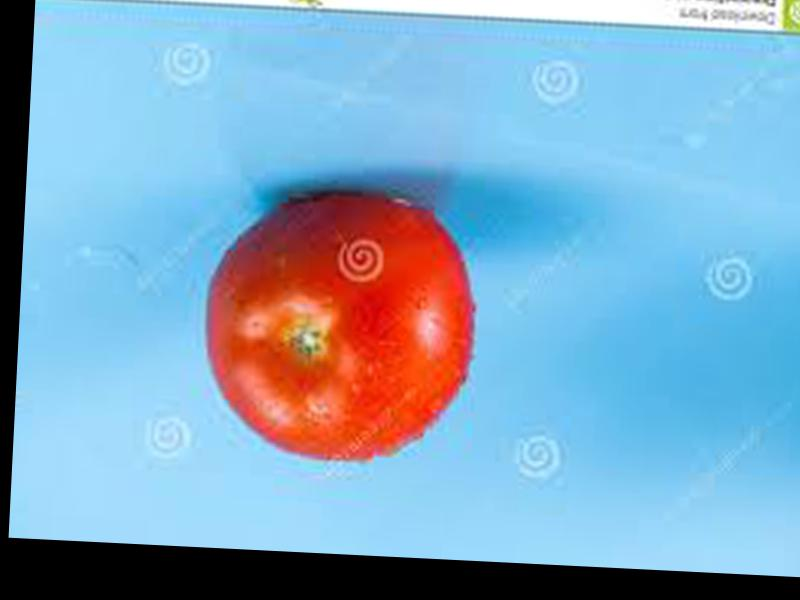Tomato: (195, 189, 480, 466)
